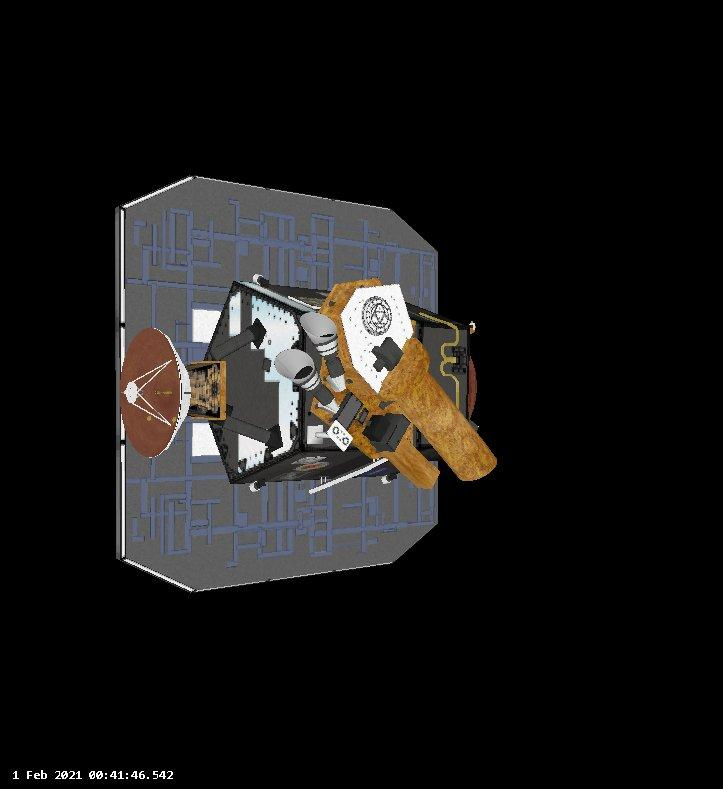antenna: (114, 324, 194, 460)
body: (207, 278, 486, 488)
solar: (103, 169, 435, 591)
